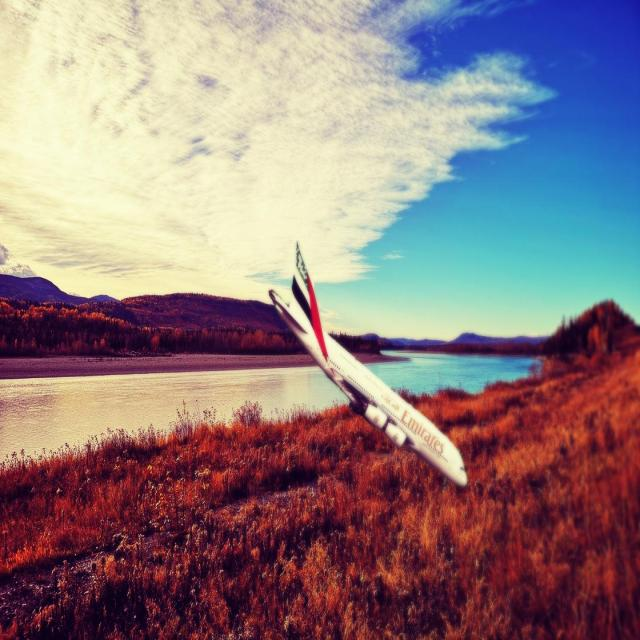airplane: (268, 240, 468, 487)
